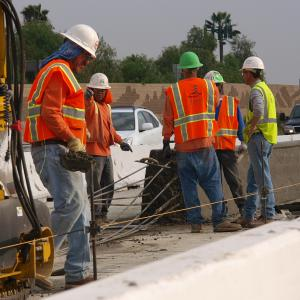white: (57, 23, 102, 73), (239, 56, 267, 87), (87, 71, 112, 103), (203, 70, 226, 95)
